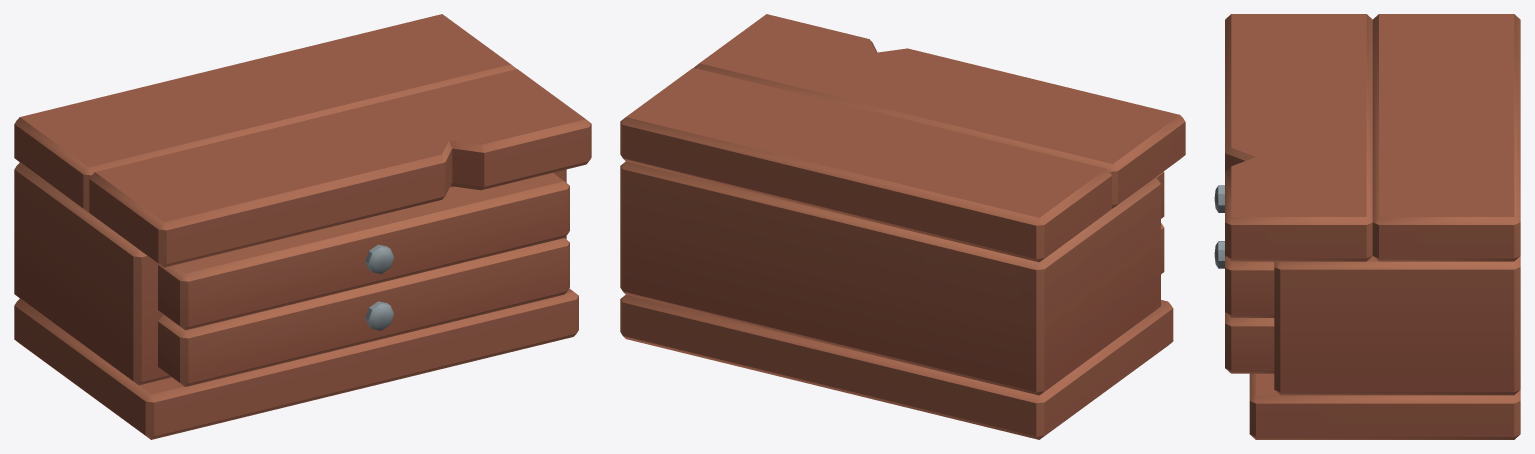
Rendered from bar_straight_b.glb.
3 views of the same model, side by side, from view 1: azimuth 30°, elevation 25°; view 2: azimuth 150°, elevation 25°; view 3: azimuth 270°, elevation 25° (orthographic). The views are drawn at different scales.
Visible parts, largest first — view 1: bar_straight_B; view 2: bar_straight_B; view 3: bar_straight_B.
Boxes of the visible parts, <box> form: bar_straight_B: <box>14,14,591,439</box>; bar_straight_B: <box>620,14,1185,439</box>; bar_straight_B: <box>1214,14,1520,439</box>.
Bounding box in the file's own units: 2 × 1 × 1.24.
1 material, 1 textured.
